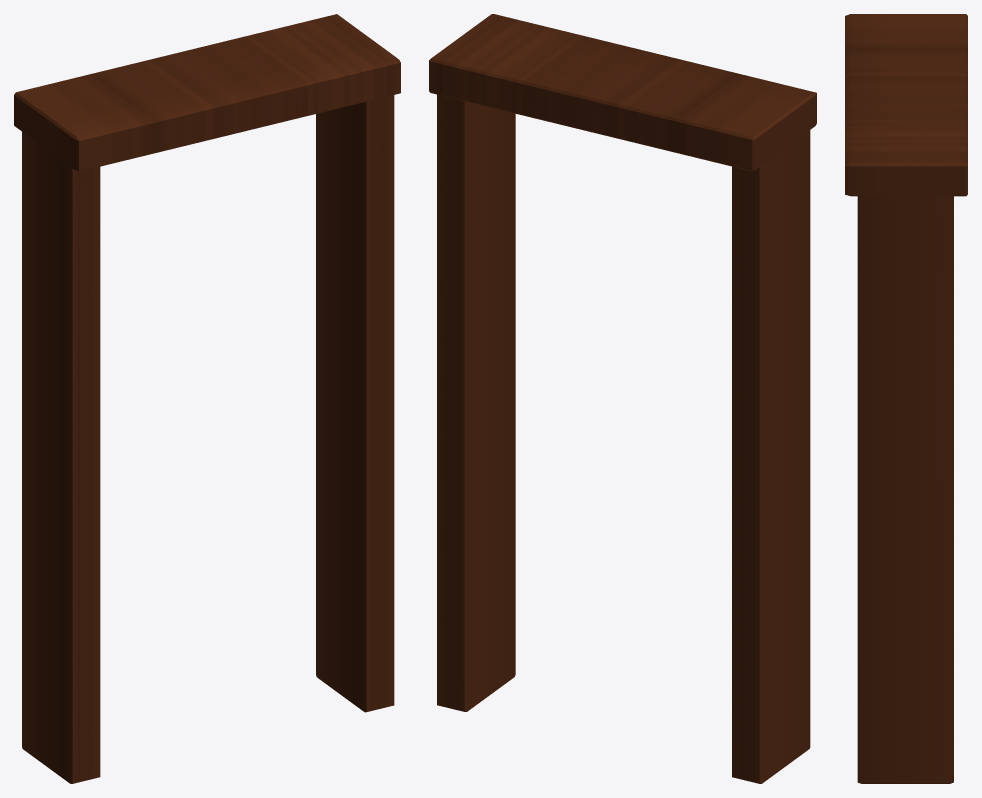
File: DoorFrame.fbx
3 views of the same model, side by side, from view 1: azimuth 30°, elevation 25°; view 2: azimuth 150°, elevation 25°; view 3: azimuth 270°, elevation 25° (orthographic). The views are drawn at different scales.
Parts seen in each view (by area): view 1: Door_Frame.004; view 2: Door_Frame.004; view 3: Door_Frame.004.
Boxes of the visible parts, x1,y1,x2,y2 form: Door_Frame.004: (14, 14, 400, 783); Door_Frame.004: (429, 14, 816, 783); Door_Frame.004: (845, 14, 967, 783).
Size of the model in its own units: 212 by 406 by 72.86.
